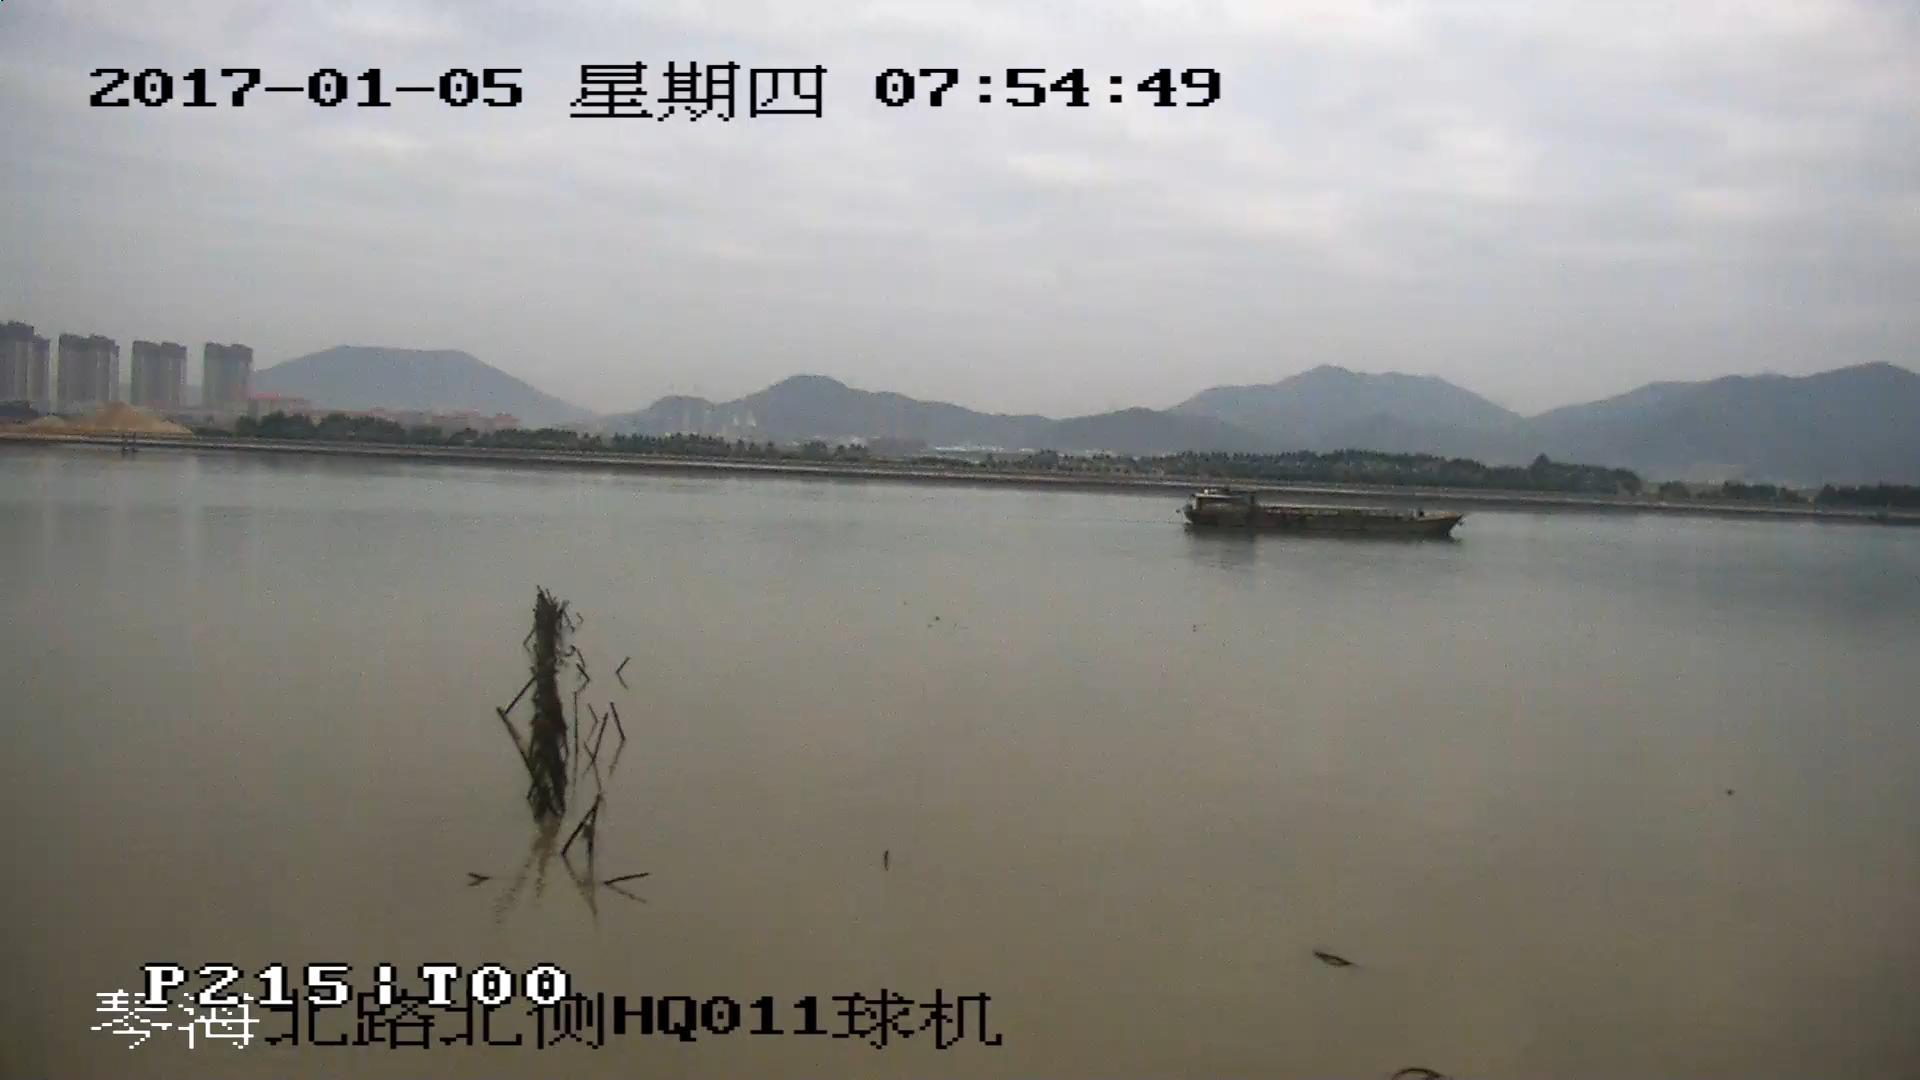Ship: (1183, 489, 1469, 539)
